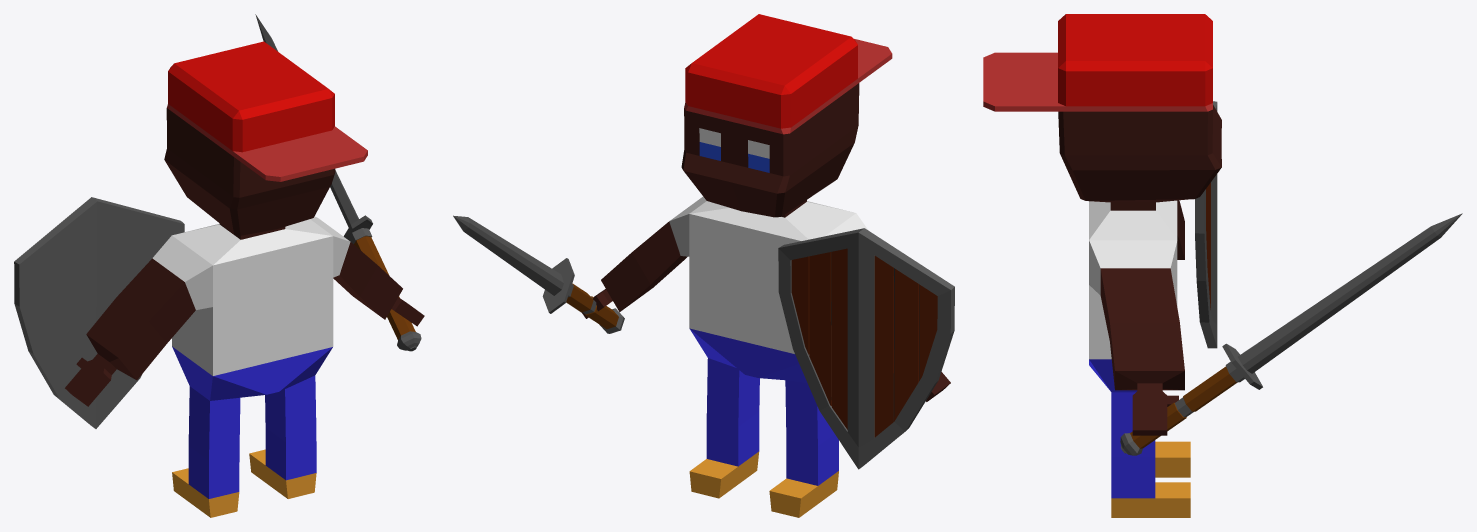
File: character1.glb
3 views of the same model, side by side, from view 1: azimuth 30°, elevation 25°; view 2: azimuth 150°, elevation 25°; view 3: azimuth 270°, elevation 25° (orthographic). The views are drawn at different scales.
Visible parts, largest first — view 1: Character, Shield.001, Sword.001; view 2: Character, Shield.001, Sword.001; view 3: Character, Sword.001, Shield.001.
Boxes of the visible parts, left/top/right/bottom form: Character: left=65, top=41, right=424, bottom=517; Shield.001: left=14, top=197, right=184, bottom=428; Sword.001: left=255, top=14, right=421, bottom=351; Character: left=581, top=14, right=950, bottom=517; Shield.001: left=778, top=228, right=954, bottom=469; Sword.001: left=453, top=215, right=624, bottom=333; Character: left=983, top=14, right=1221, bottom=517; Sword.001: left=1120, top=213, right=1462, bottom=455; Shield.001: left=1195, top=101, right=1217, bottom=348.
Size of the model in its own units: 2.07 by 2.2 by 2.11.
